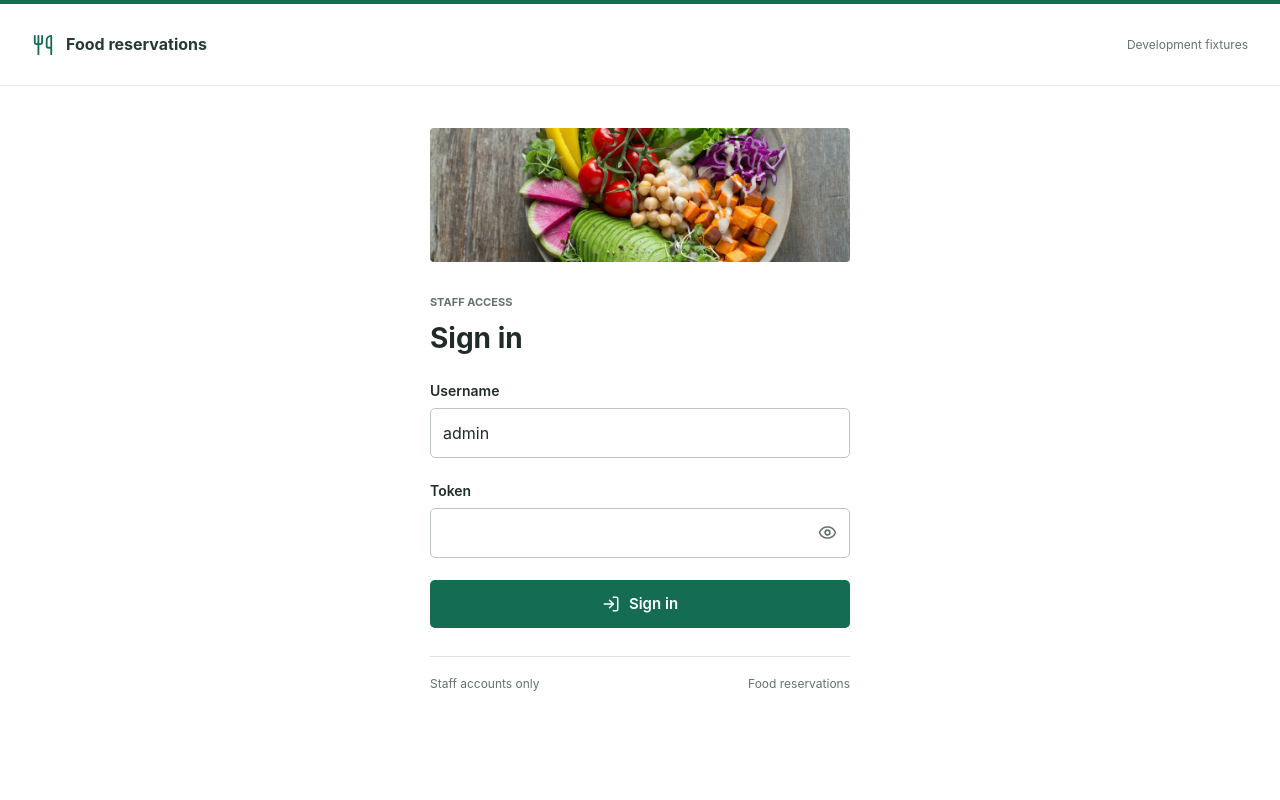
Test: inventory staff workflow › searches and filters low stock without treating an error as empty inventory
This screenshot has width=1280, height=800.
Type "local-admin-token" into the password field labelled "Token" at (618, 532), box [431,508,805,556]
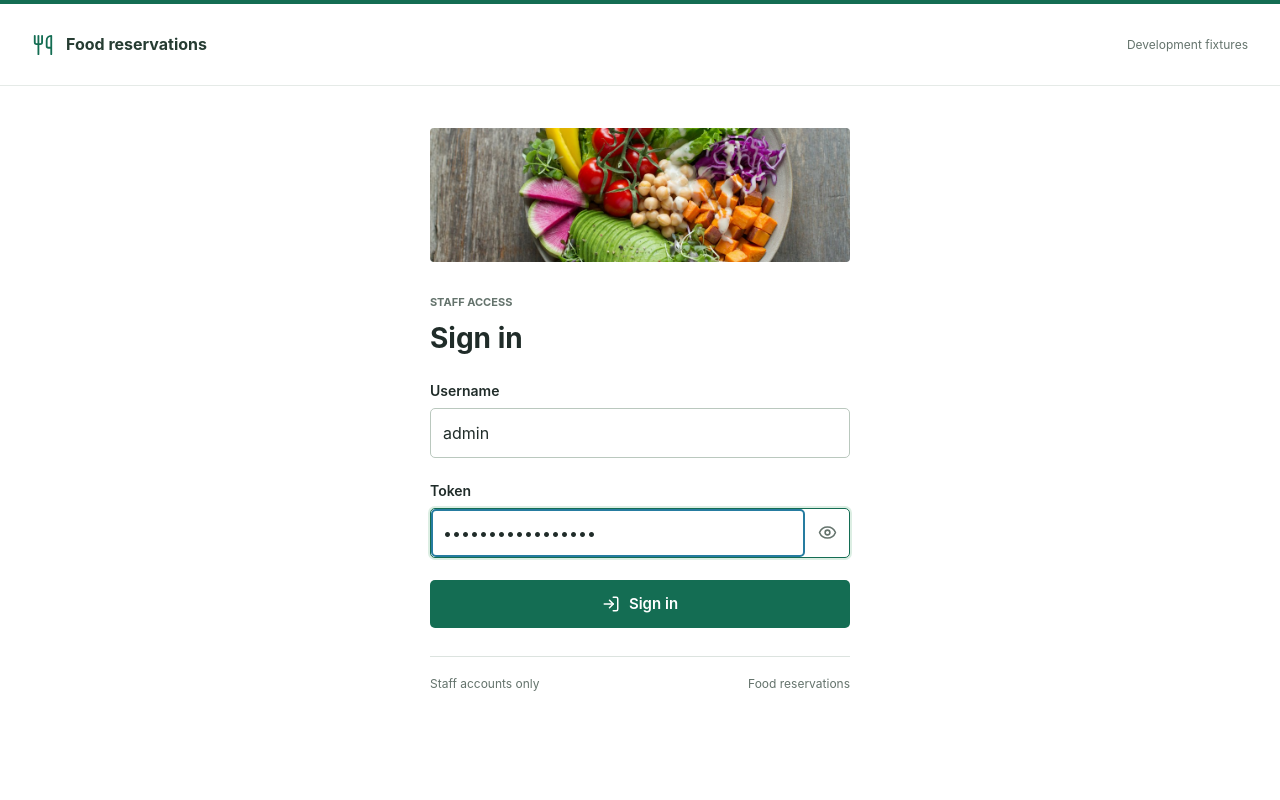
Click the button "Sign in" at (640, 604), box [430,580,850,628]
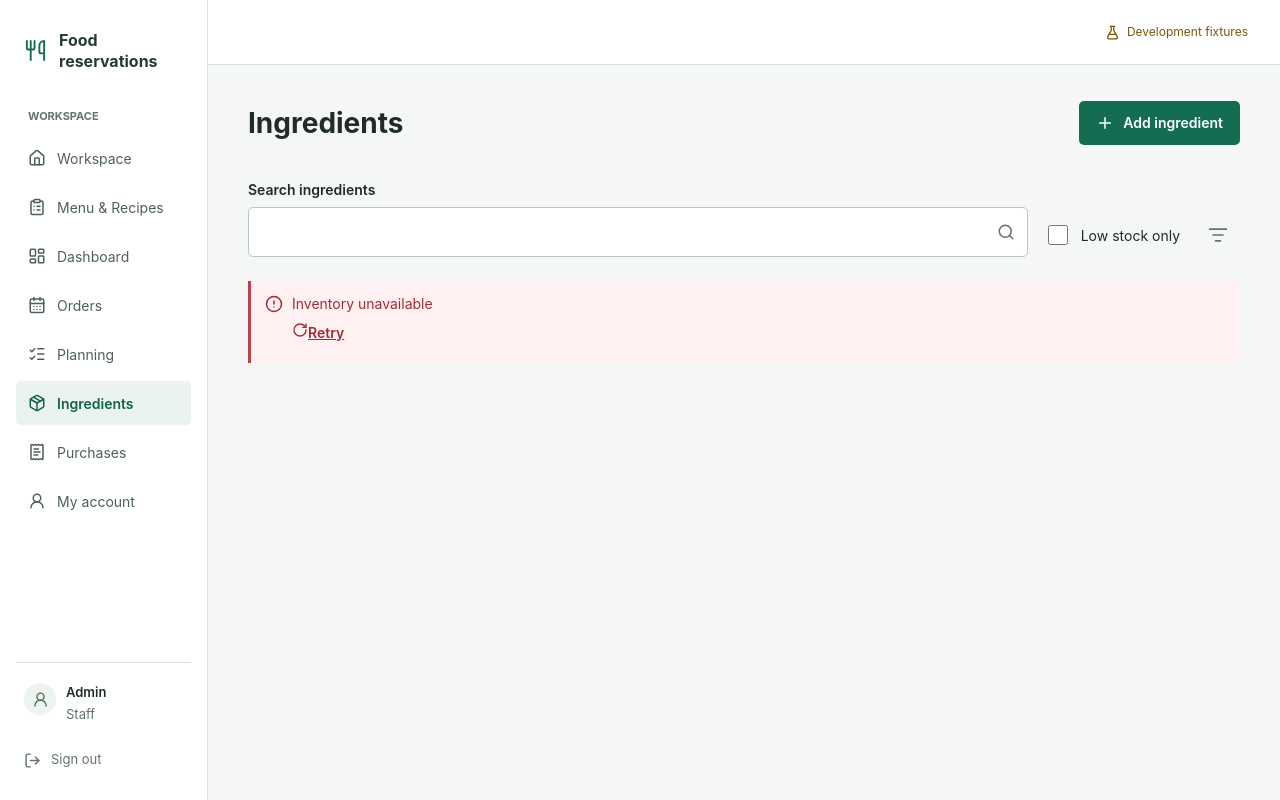
Check: the heading "Ingredients" is shown, box [248,106,404,140]
Check: the text "Inventory unavailable" is shown, box [292,295,433,312]
Click the button "Retry" at (318, 332), box [292,314,344,351]
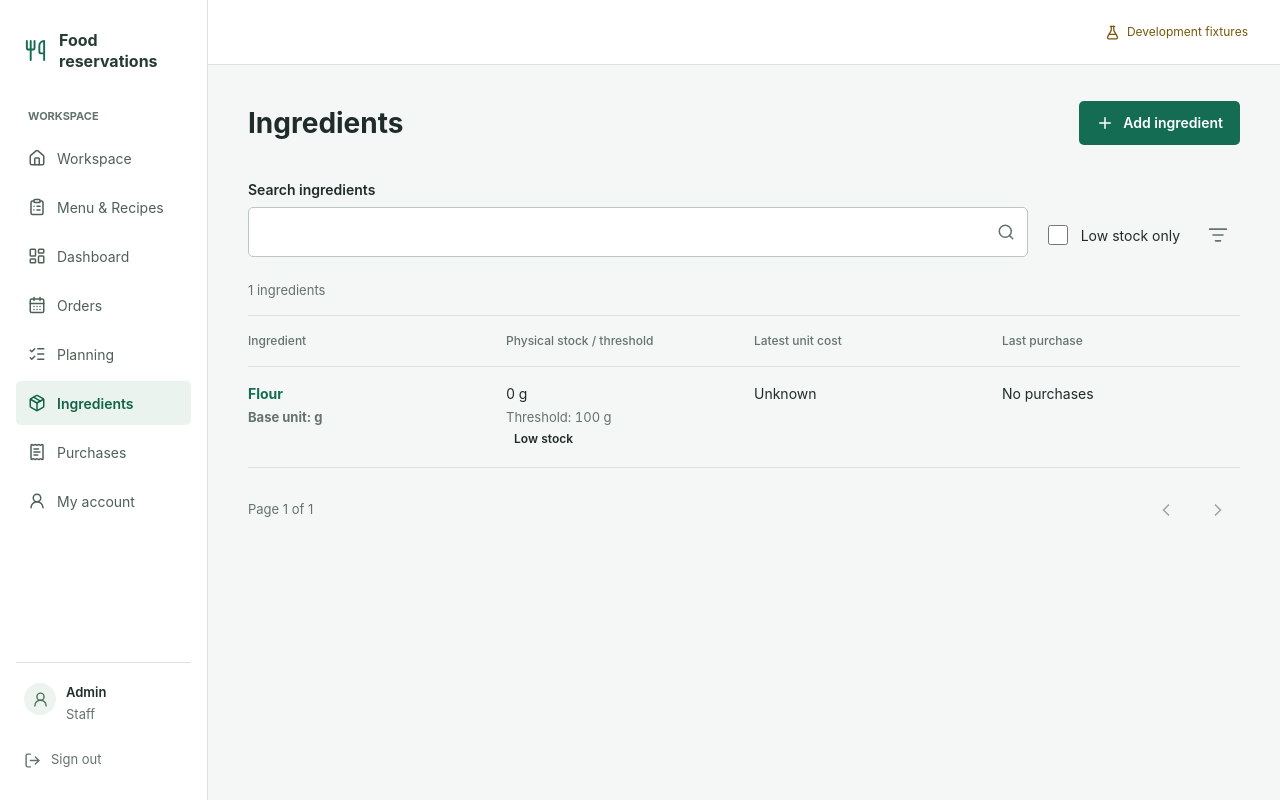
Check: the link "Flour" is shown, box [248,384,283,402]
Click the checkbox labelled "Low stock only" at (1058, 235), box [1048,225,1068,245]
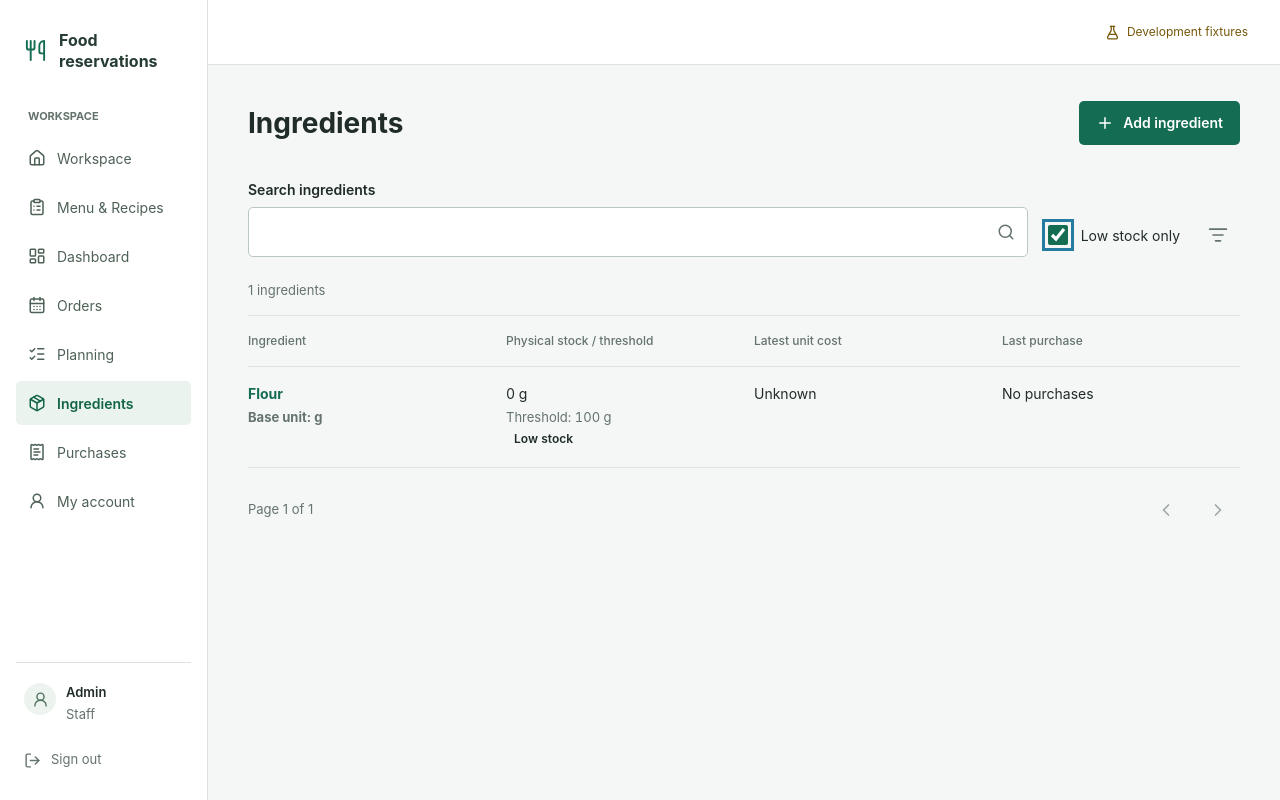
Check: the link "Flour" is shown, box [248,384,283,402]
Type "missing" into the field labelled "Search ingredients" at (623, 232), box [249,208,997,256]
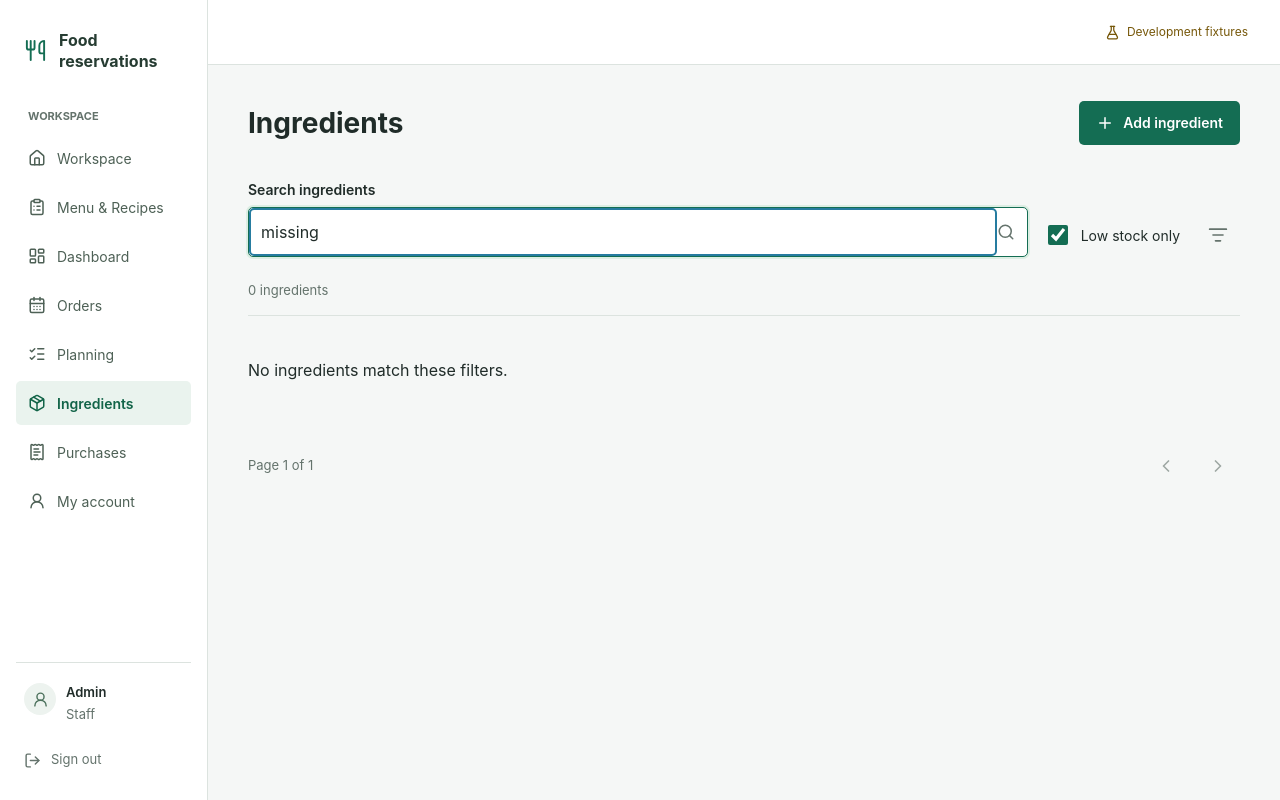
Check: the text "No ingredients match these filters." is shown, box [248,360,508,380]
Click the button named "Clear inventory filters" at (1218, 235), box [1196,213,1240,257]
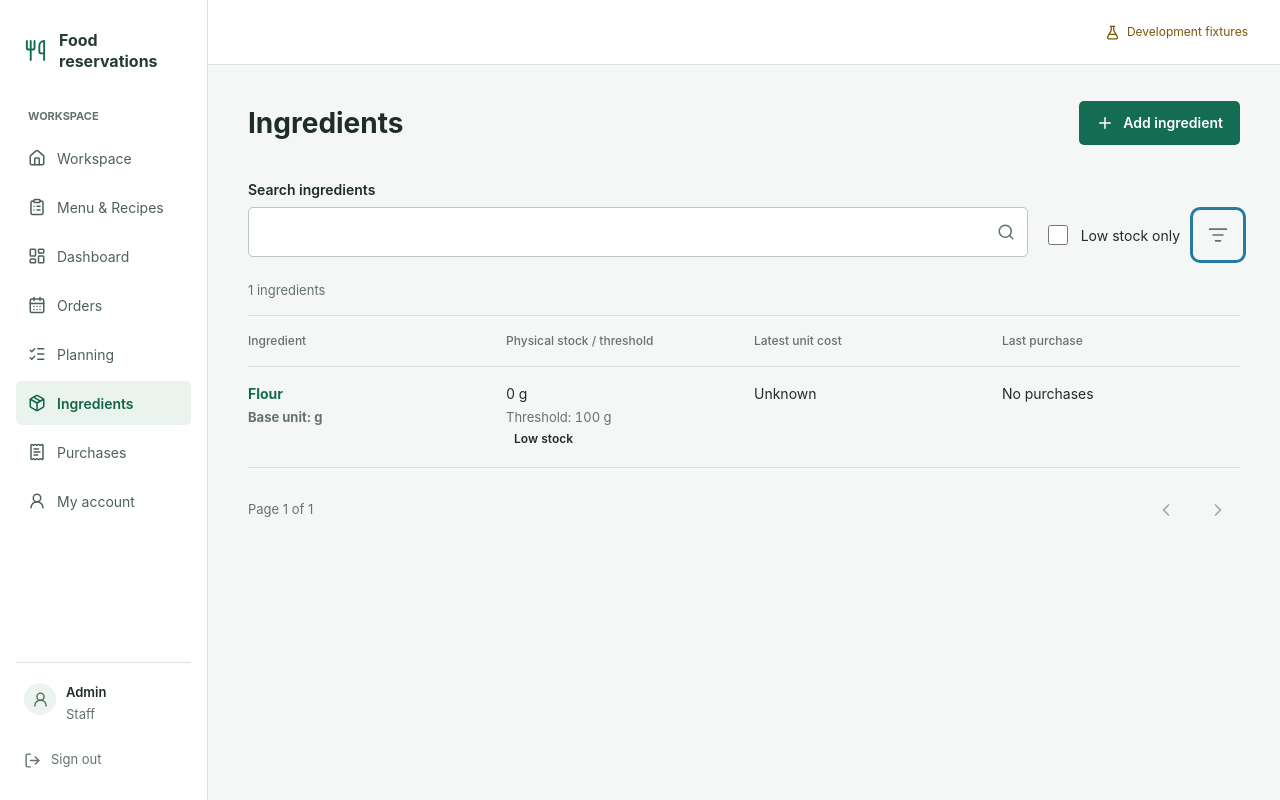
Check: the link "Flour" is shown, box [248,384,283,402]
